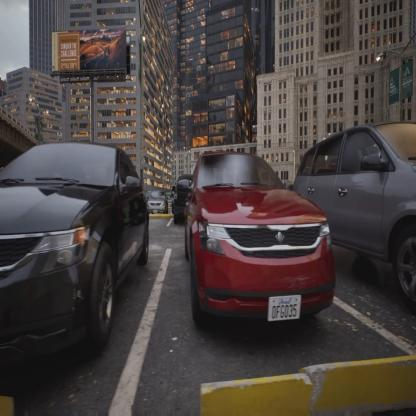License-Plate: (264, 289, 306, 330), (152, 206, 160, 216)
